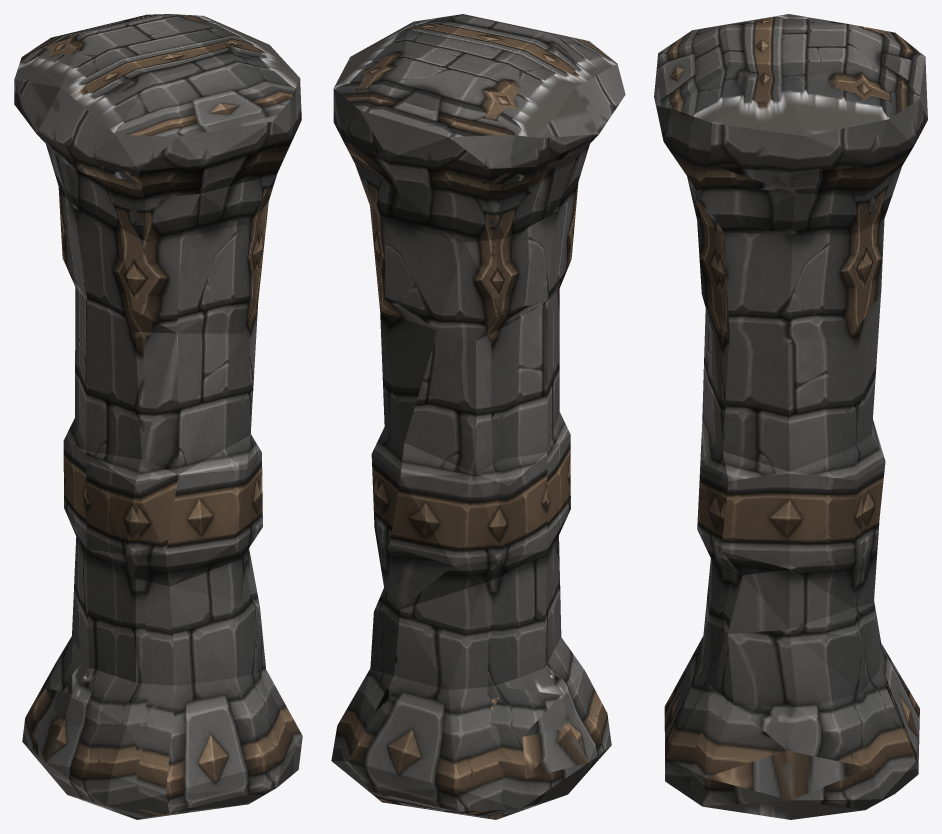
Rendered from SM_Dungeon_Pillar_A_LOD2.fbx.
The picture shows the model from 3 angles, left to right: view 1: azimuth 30°, elevation 25°; view 2: azimuth 150°, elevation 25°; view 3: azimuth 270°, elevation 25°; orthographic projection.
Visible parts, largest first — view 1: SM_Dungeon_Pillar_A_LOD2; view 2: SM_Dungeon_Pillar_A_LOD2; view 3: SM_Dungeon_Pillar_A_LOD2.
Part boxes in pixels (x1,y1,x2,y2): SM_Dungeon_Pillar_A_LOD2: (14, 14, 302, 819); SM_Dungeon_Pillar_A_LOD2: (331, 14, 625, 819); SM_Dungeon_Pillar_A_LOD2: (654, 14, 927, 819).
Size of the model in its own units: 1.02 by 3 by 0.9911.
